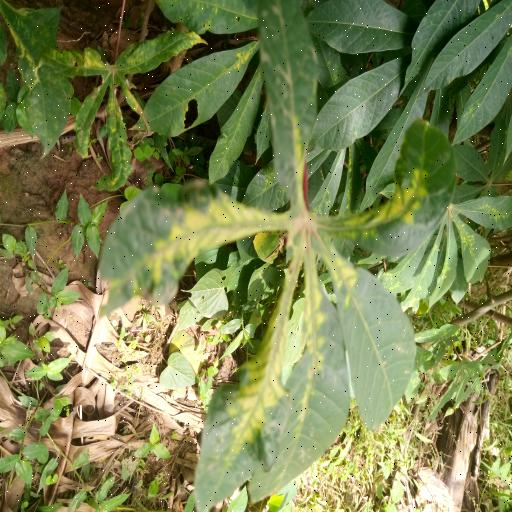Cassava_Mosaic: (96, 0, 465, 512), (27, 12, 202, 175)
